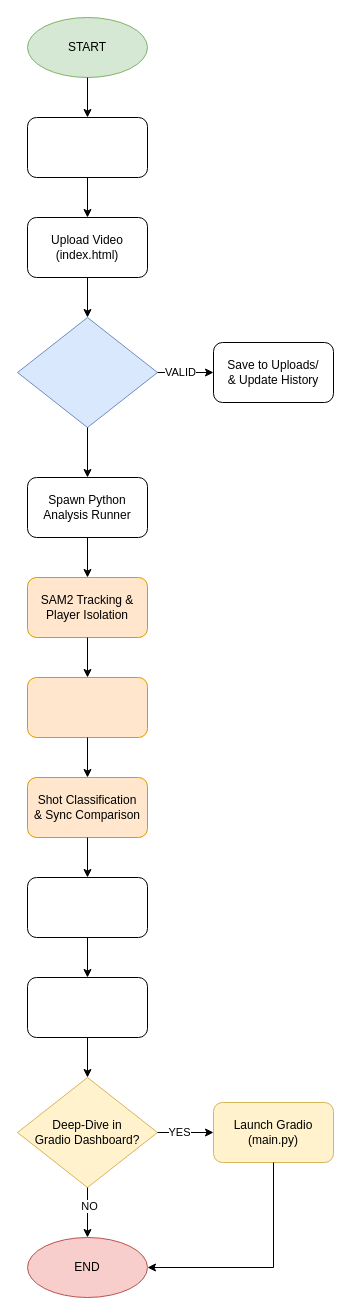
Image size: 351x1315. Some labels were removed from this diagram. The shapes that lost their labels are listed below. From the top down, each one's box as (x1, y1, x2, y2) in pixels, then its label:
(26, 116, 148, 178): User Login / Register
(16, 316, 158, 428): Node.js Server (server.js)
(26, 676, 148, 738): MediaPipe Pose Extraction
(26, 876, 148, 938): Return JSON Result to Node
(26, 976, 148, 1038): Display Results & Score UI
